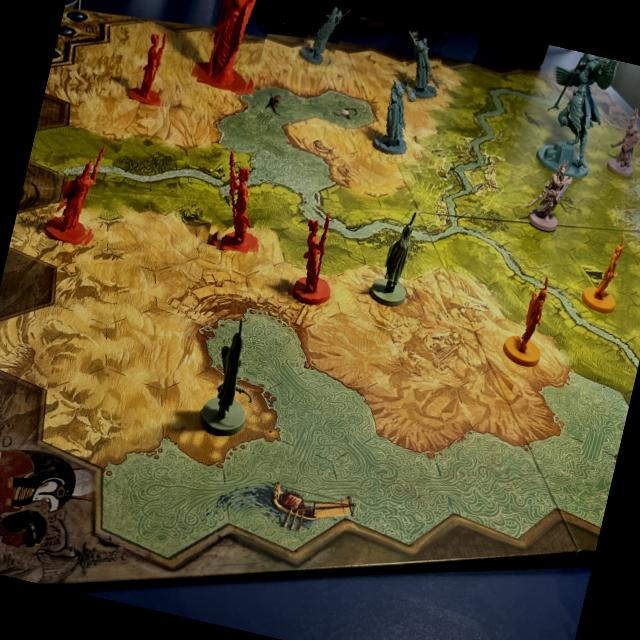amon: (192, 0, 281, 96)
amon_follower: (202, 132, 288, 258), (40, 126, 120, 250), (278, 200, 352, 311), (124, 20, 186, 109)
isis: (526, 46, 620, 180)
isis_follower: (366, 70, 424, 162), (393, 20, 454, 106), (298, 0, 355, 73)
